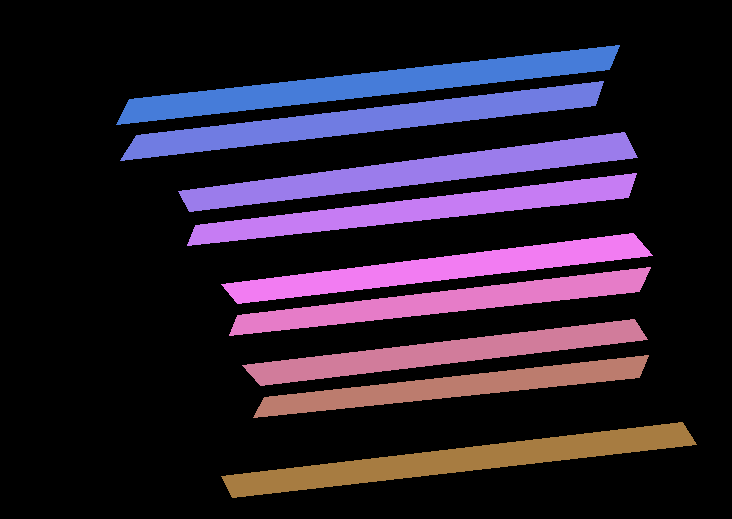parkingspot: (116, 45, 619, 124), (120, 81, 603, 160), (178, 132, 637, 211), (221, 422, 696, 497), (187, 173, 636, 245), (221, 233, 652, 303), (229, 267, 650, 335), (242, 319, 647, 385), (253, 355, 648, 417)
